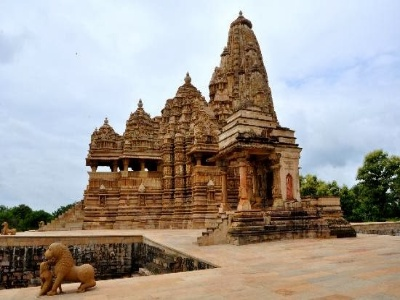amalaka: (223, 14, 259, 31)
gopuram: (218, 28, 278, 121)
mandapa: (81, 152, 165, 178)
